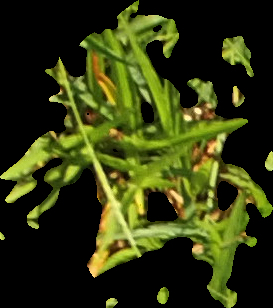grass: (1, 1, 271, 306)
